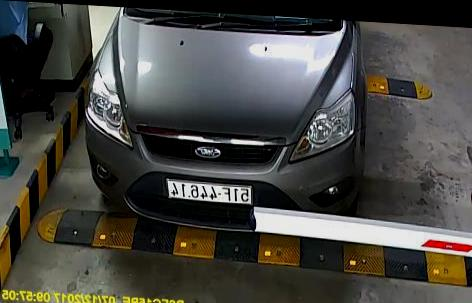License_Plate: (162, 176, 257, 206)
